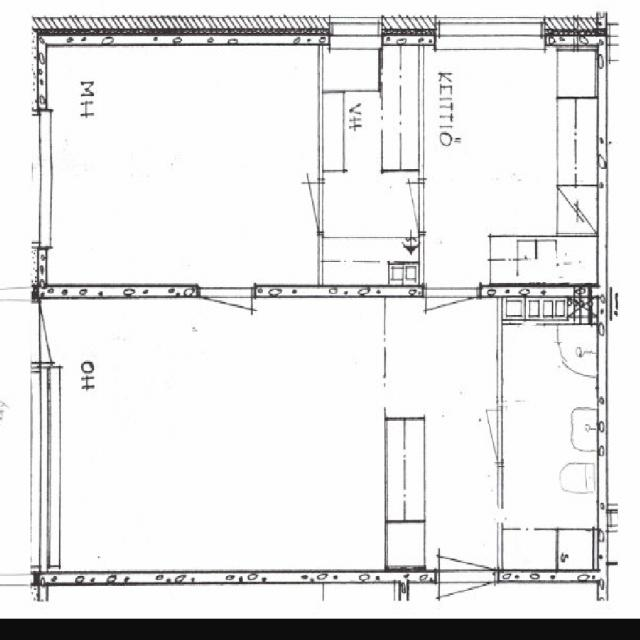door: (440, 502, 495, 584), (198, 286, 252, 365), (427, 286, 479, 362), (440, 572, 495, 640), (31, 302, 89, 362), (457, 410, 502, 461), (379, 182, 423, 232), (279, 182, 322, 231)
